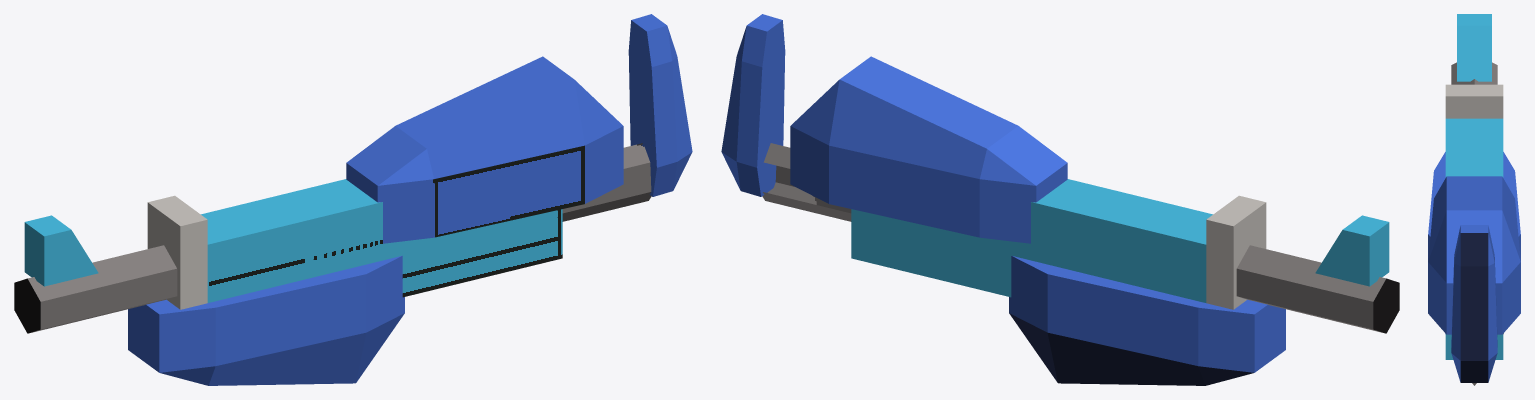
The model's file is PlasmaRifleLeftSidePC.gltf.
The picture shows the model from 3 angles, left to right: view 1: azimuth 30°, elevation 25°; view 2: azimuth 150°, elevation 25°; view 3: azimuth 270°, elevation 25°; orthographic projection. The views are drawn at different scales.
Parts seen in each view (by area): view 1: Body; view 2: Body; view 3: Body.
Boxes of the visible parts, box(x1,y1,x2,y2) form: Body: box(14, 14, 692, 385); Body: box(721, 14, 1399, 385); Body: box(1428, 14, 1520, 385).
Size of the model in its own units: 1.13 by 0.4503 by 0.1562.
1 material, 1 textured.
